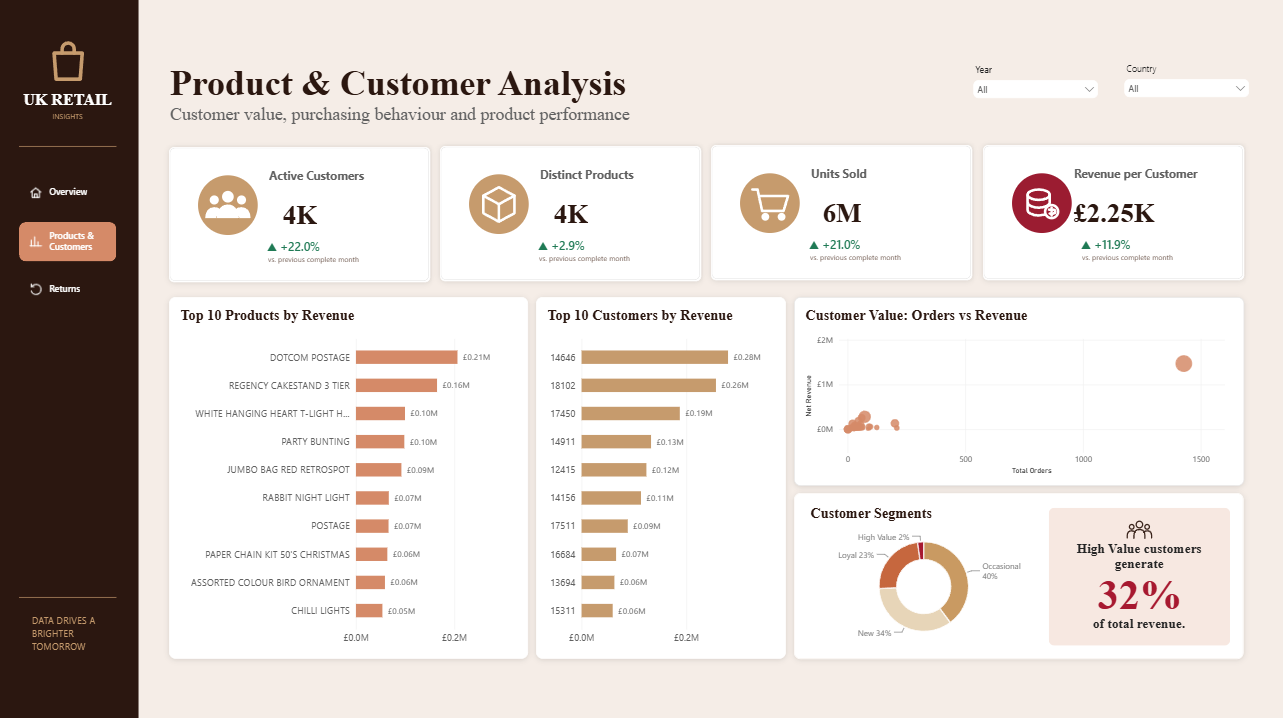

The page's visual inventory and layout, read from the dashboard file:
{"tool":"powerbi","page":{"name":"Products & Customers","canvas":[1920,1080],"ordinal":1},"visuals":[{"type":"group","id":"g1","title":"Group 4","box":[255,223.4,402.1,201.6],"z":0,"group":"g6"},{"type":"cardVisual","fields":{"Data":["FactSales.Units Sold Trend Label"]},"box":[1194.3,338.5,180.9,61.5],"z":0,"group":"g8"},{"type":"cardVisual","fields":{"Data":["FactSales.Revenue per Customer Trend Label"]},"box":[1600.3,338.5,180.9,61.5],"z":0,"group":"g9"},{"type":"cardVisual","fields":{"Data":["FactSales.Distinct Products Trend Label"]},"box":[790.2,339.6,180.9,61.5],"z":0,"group":"g10"},{"type":"cardVisual","fields":{"Data":["FactSales.Active Customers Trend Label"]},"box":[385.2,341.9,180.9,61.5],"z":0,"group":"g11"},{"type":"shape","box":[1188.8,738.8,671.2,247.5],"z":0},{"type":"shape","box":[0,0,209.8,1079.3],"z":1000},{"type":"group","id":"g2","title":"Group 4","box":[660,221.1,399.9,203.4],"z":1000,"group":"g6"},{"type":"textbox","box":[1212.4,377,210.7,35.2],"z":1000,"group":"g8"},{"type":"textbox","box":[1618.4,377,210.7,35.2],"z":1000,"group":"g9"},{"type":"textbox","box":[808.3,378.1,210.7,35.2],"z":1000,"group":"g10"},{"type":"textbox","box":[403.3,380.4,210.7,35.2],"z":1000,"group":"g11"},{"type":"group","id":"g3","title":"Group 4","box":[1064.1,220,400.9,202.3],"z":2000,"group":"g6"},{"type":"shape","box":[1566.7,760,273.3,208.3],"z":2000},{"type":"cardVisual","fields":{"Data":["FactSales.High Value Revenue Share %"]},"box":[1595,803.3,217.5,177.5],"z":2000,"group":"g7"},{"type":"group","id":"g4","title":"Group 4","box":[1470.1,220,389.7,201.6],"z":3000,"group":"g6"},{"type":"textbox","title":"High Value customers generate","box":[1601.2,810.4,203.8,56.2],"z":4000,"group":"g7"},{"type":"textbox","title":"Product & Customer Analysis","box":[256,96,1076,94],"z":5000},{"type":"textbox","box":[21.5,139.2,165.8,50.7],"z":6000},{"type":"textbox","title":"of total revenue.","box":[1601.7,923.3,203.3,25],"z":6000,"group":"g7"},{"type":"slicer","fields":{"Values":["FactSales.Country"]},"box":[1676,96.7,196,72],"z":8000,"group":"g5"},{"type":"shape","box":[31.1,163.3,145.6,117.8],"z":8000},{"type":"image","box":[56,58,96,72],"z":9000},{"type":"cardVisual","fields":{"Data":["FactSales.Units Sold"]},"box":[1064.1,220,389.7,201.6],"z":9000,"group":"g3"},{"type":"cardVisual","fields":{"Data":["FactSales.Revenue per Customer"]},"box":[1470.1,220,389.7,201.6],"z":9000,"group":"g4"},{"type":"cardVisual","fields":{"Data":["FactSales.Distinct Products"]},"box":[660,221.1,389.7,201.6],"z":9000,"group":"g2"},{"type":"cardVisual","fields":{"Data":["FactSales.Active Customers"]},"box":[255,223.4,389.7,201.6],"z":9000,"group":"g1"},{"type":"slicer","fields":{"Values":["DateTable.Year"]},"box":[1450,98.7,196,76],"z":10000,"group":"g5"},{"type":"clusteredBarChart","title":"Top 10 Products by Revenue","fields":{"Category":["FactSales.ProductName"],"Y":["FactSales.Net Revenue"]},"box":[254.6,446.5,536.4,539.8],"z":10000},{"type":"shape","box":[32,836,145.6,117.8],"z":11000},{"type":"textbox","title":"DATA DRIVES A BRIGHTER TOMORROW","box":[50,920,108,66],"z":12000},{"type":"group","id":"g5","title":"Group 5","box":[1450,96.7,423.3,78.3],"z":14000},{"type":"group","id":"g6","title":"Group 3","box":[255,220,1604.8,205],"z":15000},{"type":"clusteredBarChart","title":"Top 10 Customers by Revenue","fields":{"Category":["FactSales.CustomerKey"],"Y":["FactSales.Net Revenue"]},"box":[803,446.5,373.5,539.8],"z":16000},{"type":"actionButton","box":[31.5,261.5,145.4,57.2],"z":17000},{"type":"scatterChart","title":"Customer Value: Orders vs Revenue","fields":{"Category":["FactSales.CustomerKey"],"Size":["FactSales.Units Sold"],"X":["FactSales.Total Orders"],"Y":["FactSales.Net Revenue"]},"box":[1188.3,446.5,672.3,281.8],"z":17000},{"type":"actionButton","box":[31.5,334.1,145.4,59],"z":18000},{"type":"donutChart","title":"Customer Segments","fields":{"Category":["Customer Segments.Segment"],"Y":["FactSales.Customers by Segment"]},"box":[1198.3,743.3,368.3,238.3],"z":18000},{"type":"actionButton","box":[31.5,406.7,145.4,57.2],"z":19000},{"type":"group","id":"g7","title":"Group 6","box":[1595,803.3,217.5,177.5],"z":19000},{"type":"image","box":[1680,756.2,46.2,75],"z":20000},{"type":"image","box":[1085.8,260.1,130.5,92.9],"z":25000,"group":"g3"},{"type":"image","box":[1491.8,260.1,130.5,92.9],"z":25000,"group":"g4"},{"type":"image","box":[681.7,261.2,130.5,92.9],"z":25000,"group":"g2"},{"type":"image","box":[276.7,263.5,130.5,92.9],"z":25000,"group":"g1"},{"type":"textbox","title":"Revenue per Customer","box":[1606.1,250,252,36],"z":28000,"group":"g4"},{"type":"textbox","title":"Units Sold","box":[1213.2,250.4,253,36.1],"z":28000,"group":"g3"},{"type":"textbox","title":"Distinct Products","box":[809.1,251.5,253,36.1],"z":28000,"group":"g2"},{"type":"textbox","title":"Active Customers","box":[404.1,253.8,253,36.1],"z":28000,"group":"g1"},{"type":"group","id":"g8","title":"Group 2","box":[1194.3,338.5,228.7,73.7],"z":31000,"group":"g3"},{"type":"group","id":"g9","title":"Group 2","box":[1600.3,338.5,228.7,73.7],"z":31000,"group":"g4"},{"type":"group","id":"g10","title":"Group 2","box":[790.2,339.6,228.7,73.7],"z":31000,"group":"g2"},{"type":"group","id":"g11","title":"Group 2","box":[385.2,341.9,228.7,73.7],"z":31000,"group":"g1"}]}

Visuals, with their boxes on the page's 1920x1080 design canvas (x1, y1, x2, y2). These are canvas units, not pixel positions in the 1283x718 screenshot, which may show the page scaled, cropped or inside an application window:
"Group 4" group: [left=255, top=223, right=657, bottom=425]
cardVisual - FactSales.Units Sold Trend Label: [left=1194, top=338, right=1375, bottom=400]
cardVisual - FactSales.Revenue per Customer Trend Label: [left=1600, top=338, right=1781, bottom=400]
cardVisual - FactSales.Distinct Products Trend Label: [left=790, top=340, right=971, bottom=401]
cardVisual - FactSales.Active Customers Trend Label: [left=385, top=342, right=566, bottom=403]
shape: [left=1189, top=739, right=1860, bottom=986]
shape: [left=0, top=0, right=210, bottom=1079]
"Group 4" group: [left=660, top=221, right=1060, bottom=424]
textbox: [left=1212, top=377, right=1423, bottom=412]
textbox: [left=1618, top=377, right=1829, bottom=412]
textbox: [left=808, top=378, right=1019, bottom=413]
textbox: [left=403, top=380, right=614, bottom=416]
"Group 4" group: [left=1064, top=220, right=1465, bottom=422]
shape: [left=1567, top=760, right=1840, bottom=968]
cardVisual - FactSales.High Value Revenue Share %: [left=1595, top=803, right=1812, bottom=981]
"Group 4" group: [left=1470, top=220, right=1860, bottom=422]
"High Value customers generate" textbox: [left=1601, top=810, right=1805, bottom=867]
"Product & Customer Analysis" textbox: [left=256, top=96, right=1332, bottom=190]
textbox: [left=22, top=139, right=187, bottom=190]
"of total revenue." textbox: [left=1602, top=923, right=1805, bottom=948]
slicer - FactSales.Country: [left=1676, top=97, right=1872, bottom=169]
shape: [left=31, top=163, right=177, bottom=281]
image: [left=56, top=58, right=152, bottom=130]
cardVisual - FactSales.Units Sold: [left=1064, top=220, right=1454, bottom=422]
cardVisual - FactSales.Revenue per Customer: [left=1470, top=220, right=1860, bottom=422]
cardVisual - FactSales.Distinct Products: [left=660, top=221, right=1050, bottom=423]
cardVisual - FactSales.Active Customers: [left=255, top=223, right=645, bottom=425]
slicer - DateTable.Year: [left=1450, top=99, right=1646, bottom=175]
"Top 10 Products by Revenue" clusteredBarChart: [left=255, top=446, right=791, bottom=986]
shape: [left=32, top=836, right=178, bottom=954]
"DATA DRIVES A BRIGHTER TOMORROW" textbox: [left=50, top=920, right=158, bottom=986]
"Group 5" group: [left=1450, top=97, right=1873, bottom=175]
"Group 3" group: [left=255, top=220, right=1860, bottom=425]
"Top 10 Customers by Revenue" clusteredBarChart: [left=803, top=446, right=1176, bottom=986]
actionButton: [left=32, top=262, right=177, bottom=319]
"Customer Value: Orders vs Revenue" scatterChart: [left=1188, top=446, right=1861, bottom=728]
actionButton: [left=32, top=334, right=177, bottom=393]
"Customer Segments" donutChart: [left=1198, top=743, right=1567, bottom=982]
actionButton: [left=32, top=407, right=177, bottom=464]
"Group 6" group: [left=1595, top=803, right=1812, bottom=981]
image: [left=1680, top=756, right=1726, bottom=831]
image: [left=1086, top=260, right=1216, bottom=353]
image: [left=1492, top=260, right=1622, bottom=353]
image: [left=682, top=261, right=812, bottom=354]
image: [left=277, top=264, right=407, bottom=356]
"Revenue per Customer" textbox: [left=1606, top=250, right=1858, bottom=286]
"Units Sold" textbox: [left=1213, top=250, right=1466, bottom=286]
"Distinct Products" textbox: [left=809, top=252, right=1062, bottom=288]
"Active Customers" textbox: [left=404, top=254, right=657, bottom=290]
"Group 2" group: [left=1194, top=338, right=1423, bottom=412]
"Group 2" group: [left=1600, top=338, right=1829, bottom=412]
"Group 2" group: [left=790, top=340, right=1019, bottom=413]
"Group 2" group: [left=385, top=342, right=614, bottom=416]
